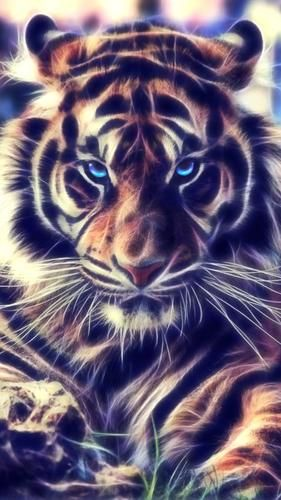Tigrew: (15, 6, 268, 389)
